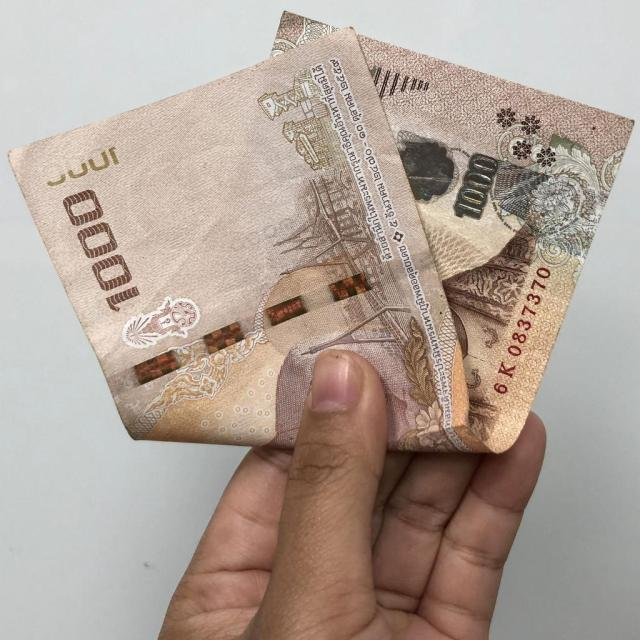THAI1000: (8, 12, 633, 453)
